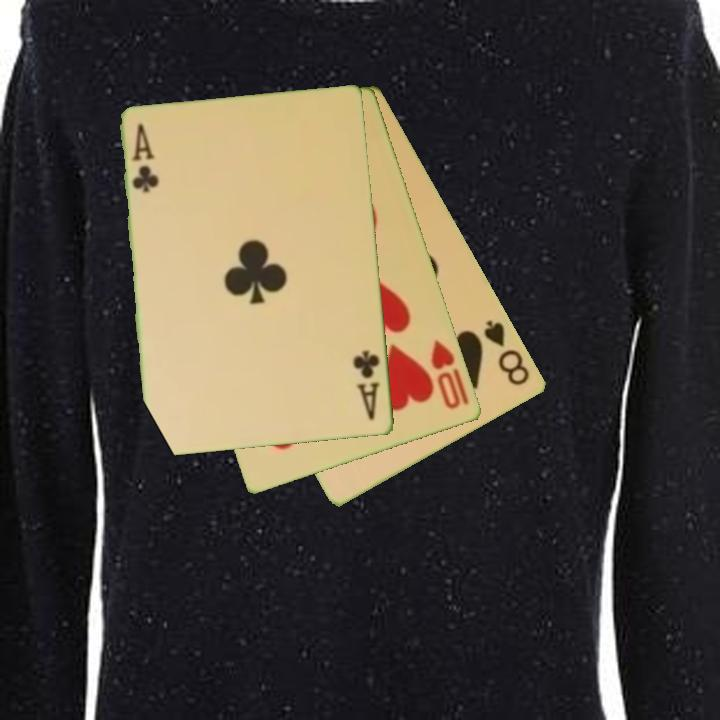10h: (427, 336, 464, 413)
8s: (481, 316, 533, 389)
Ac: (350, 347, 383, 424), (129, 120, 161, 196)
